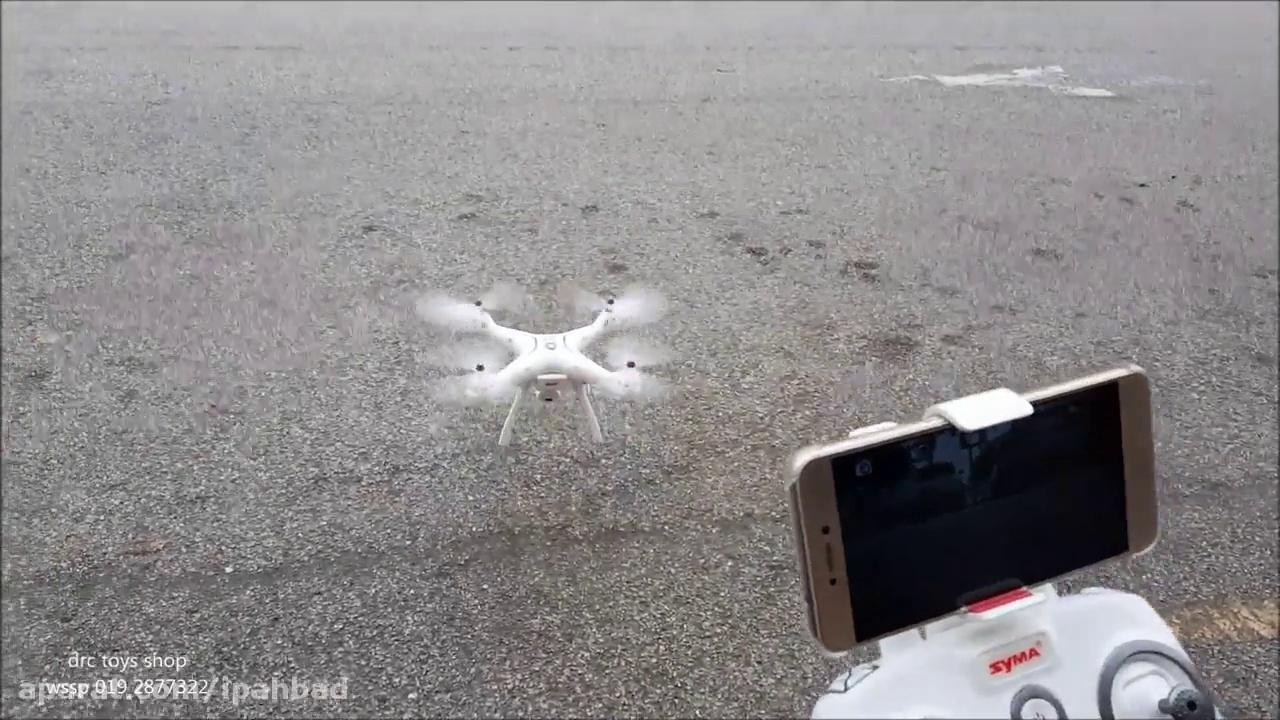drone: (408, 273, 693, 451)
